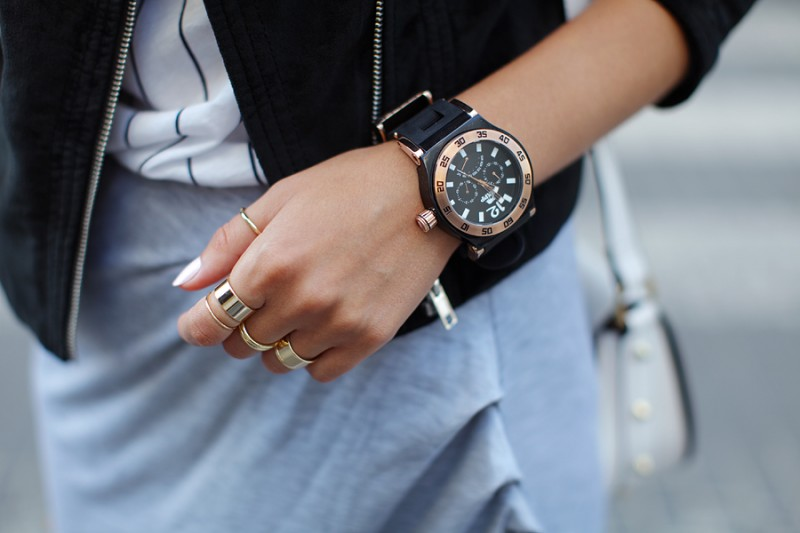clock: (441, 132, 530, 235)
